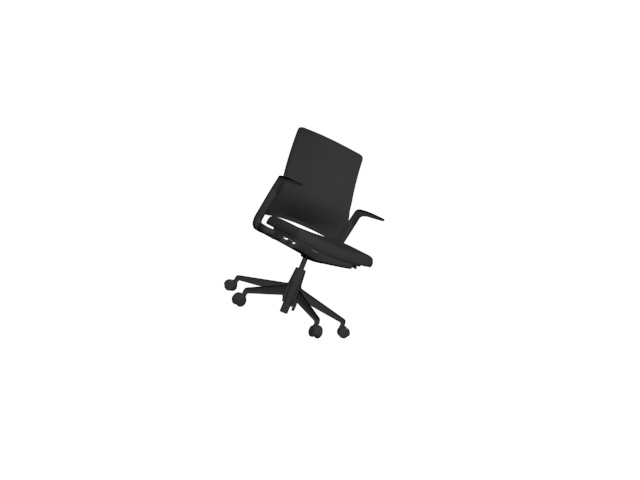desk_chair: (217, 121, 392, 344)
